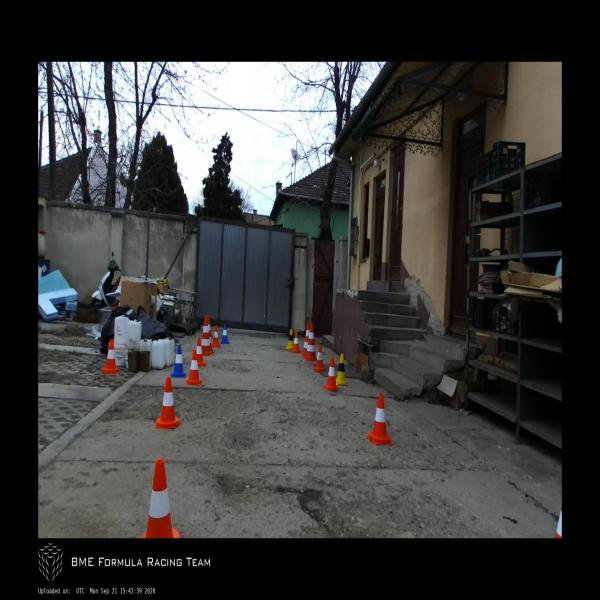blue_cone: (170, 344, 186, 379), (220, 325, 229, 344)
large_orange_cone: (304, 324, 317, 361), (201, 317, 213, 356), (301, 322, 310, 357), (206, 316, 214, 353)
orange_cone: (141, 459, 181, 538), (154, 376, 180, 430), (366, 393, 393, 445), (185, 348, 202, 386), (102, 339, 118, 374), (323, 357, 339, 390), (313, 344, 326, 372), (196, 338, 206, 367), (291, 331, 301, 353), (211, 326, 221, 346)
yellow_cone: (335, 354, 348, 386), (286, 329, 294, 349)
